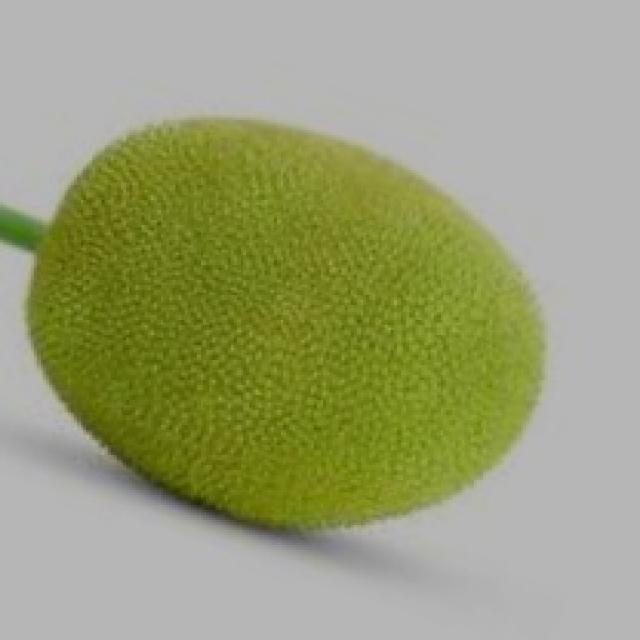Fruit: (224, 107, 582, 535)
